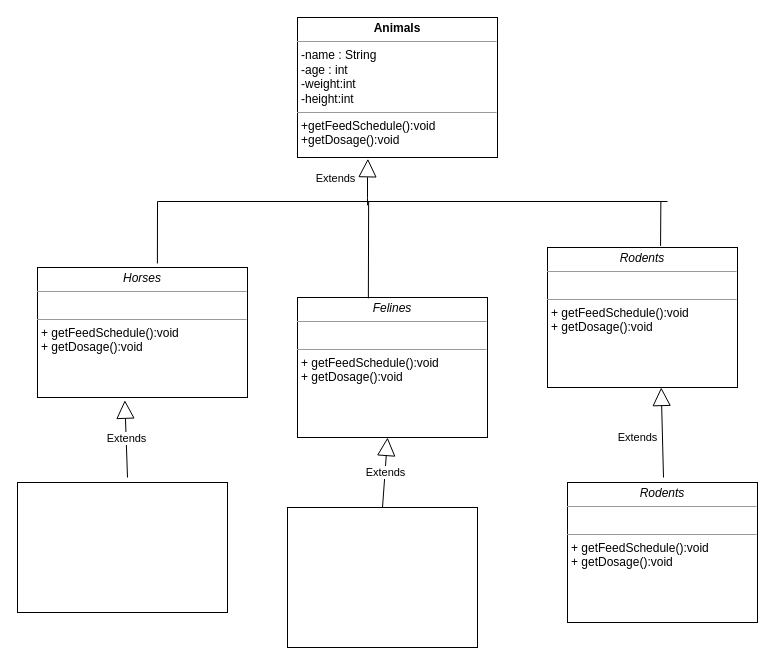
Image size: 775x665. Some labels were removed from this diagram. Here are the shapes that lost their labels. From the top down, the centre of each, then its label:
At point 122,547: "Zebras + getFeedSchedule():void + getDosage():void".
At point 382,577: "Lions + getFeedSchedule():void + getDosage():void".
